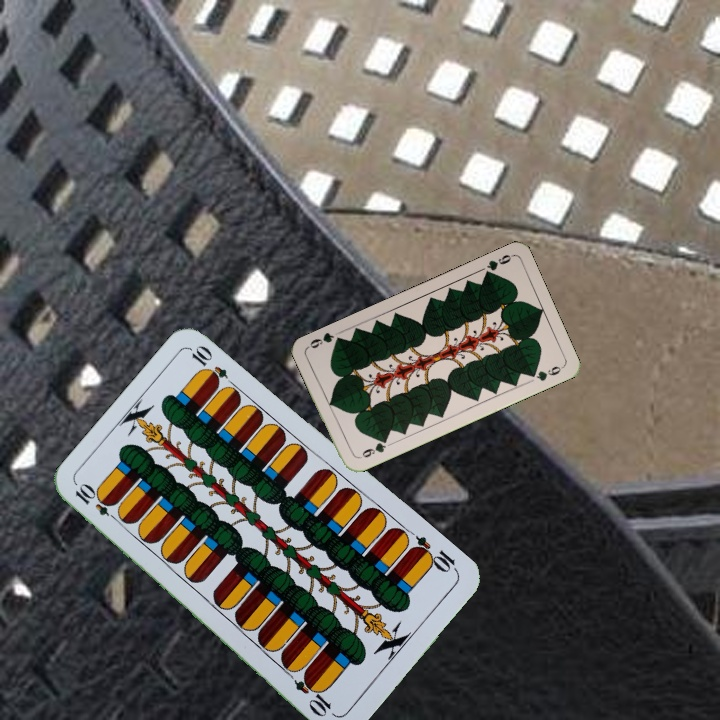E10: (406, 531, 461, 576), (71, 480, 123, 525)
G9: (480, 250, 515, 280), (354, 434, 390, 461)
